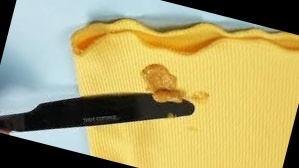mustard: (142, 64, 188, 108), (190, 87, 208, 107)
